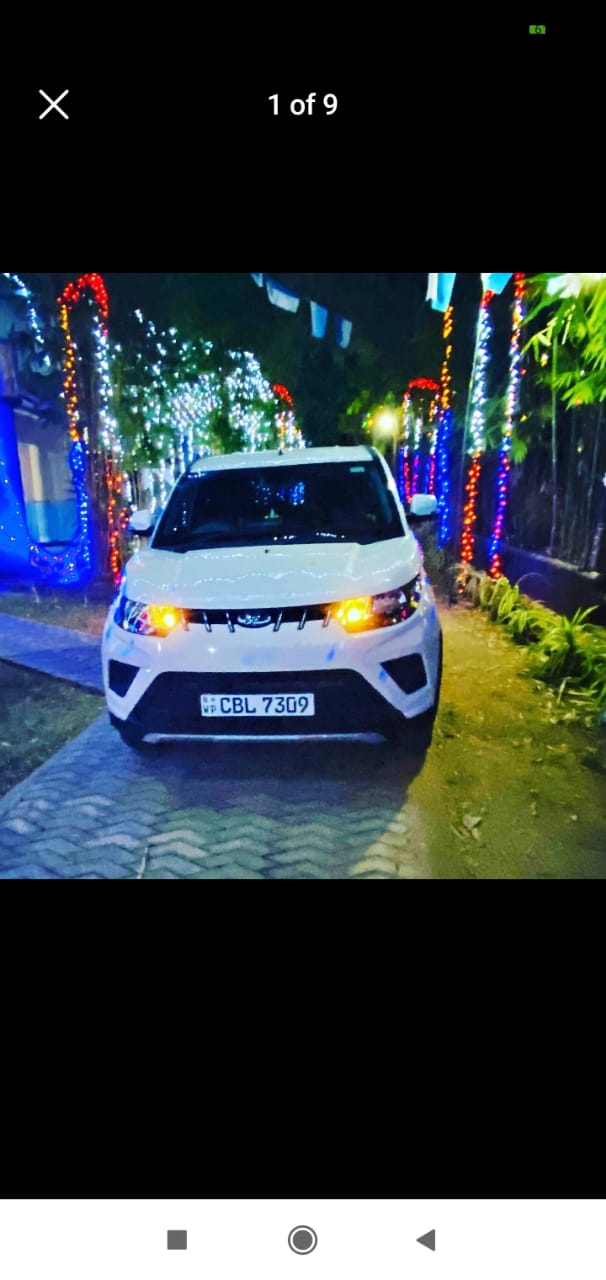number_plate: (195, 691, 318, 716)
